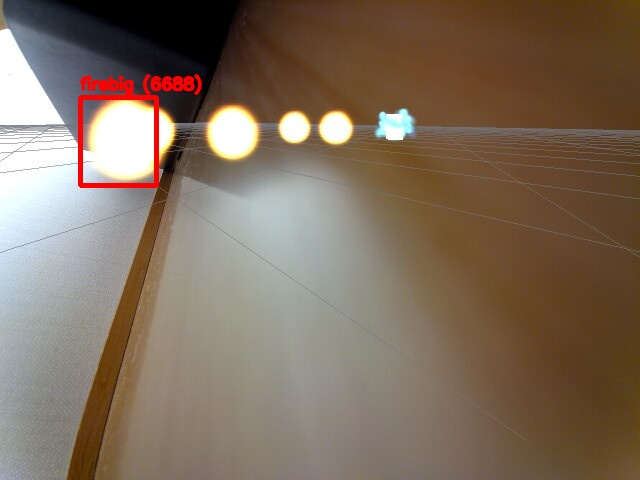firebig: (80, 97, 156, 185)
